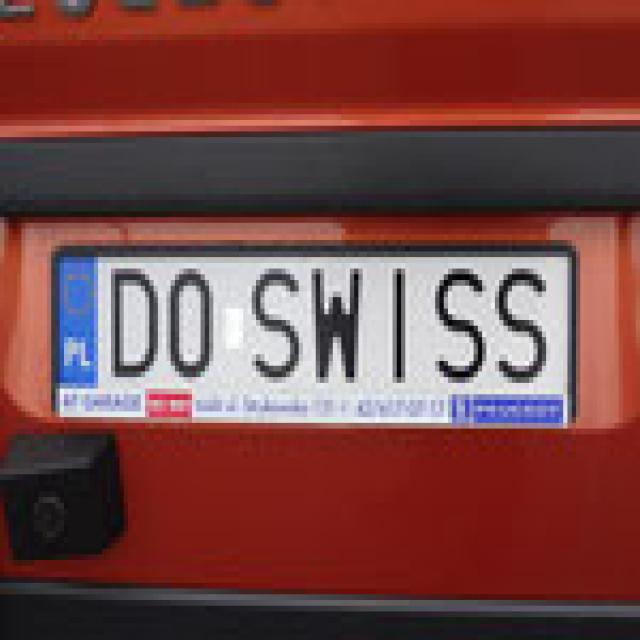pl_license_plate: (51, 245, 563, 388)
